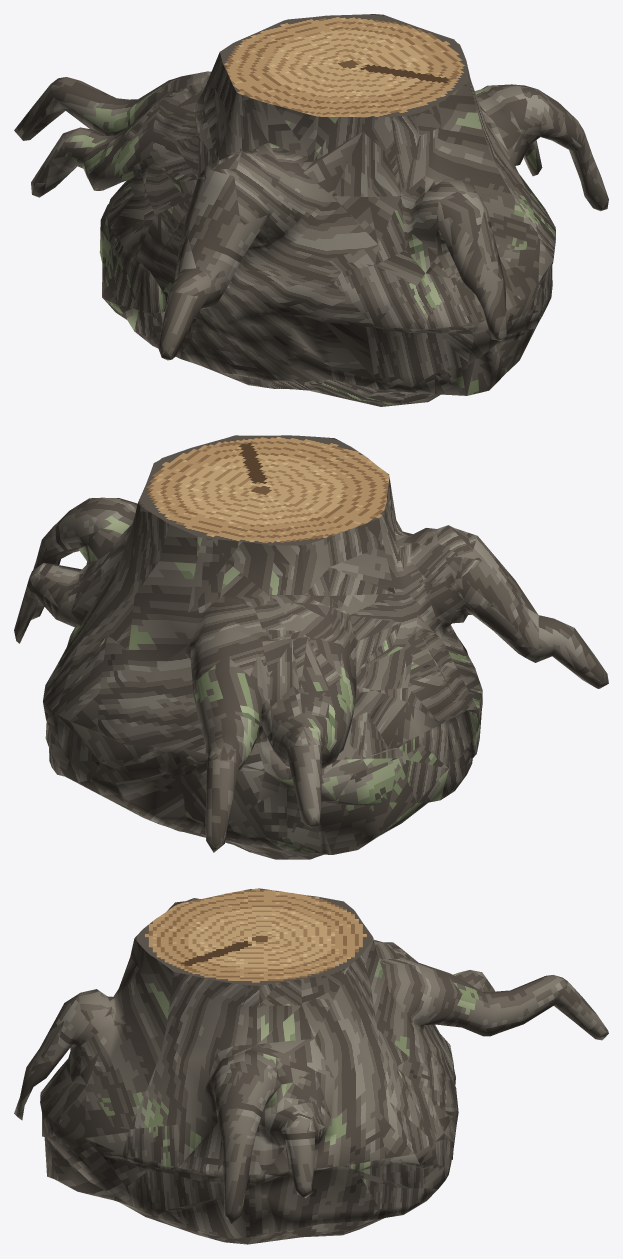
The model's file is environment_elm2_stump_v34.fbx.
3 renders of one model, top to bottom at view 1: azimuth 30°, elevation 25°; view 2: azimuth 150°, elevation 25°; view 3: azimuth 270°, elevation 25°, orthographic. The views are drawn at different scales.
Parts seen in each view (by area): view 1: environment_elm2_stump_v34; view 2: environment_elm2_stump_v34; view 3: environment_elm2_stump_v34.
Boxes of the visible parts, x1,y1,x2,y2 form: environment_elm2_stump_v34: (14, 14, 608, 406); environment_elm2_stump_v34: (14, 435, 608, 859); environment_elm2_stump_v34: (14, 888, 608, 1244).
Size of the model in its own units: 431 by 243 by 480.
2 materials, 2 textured.
